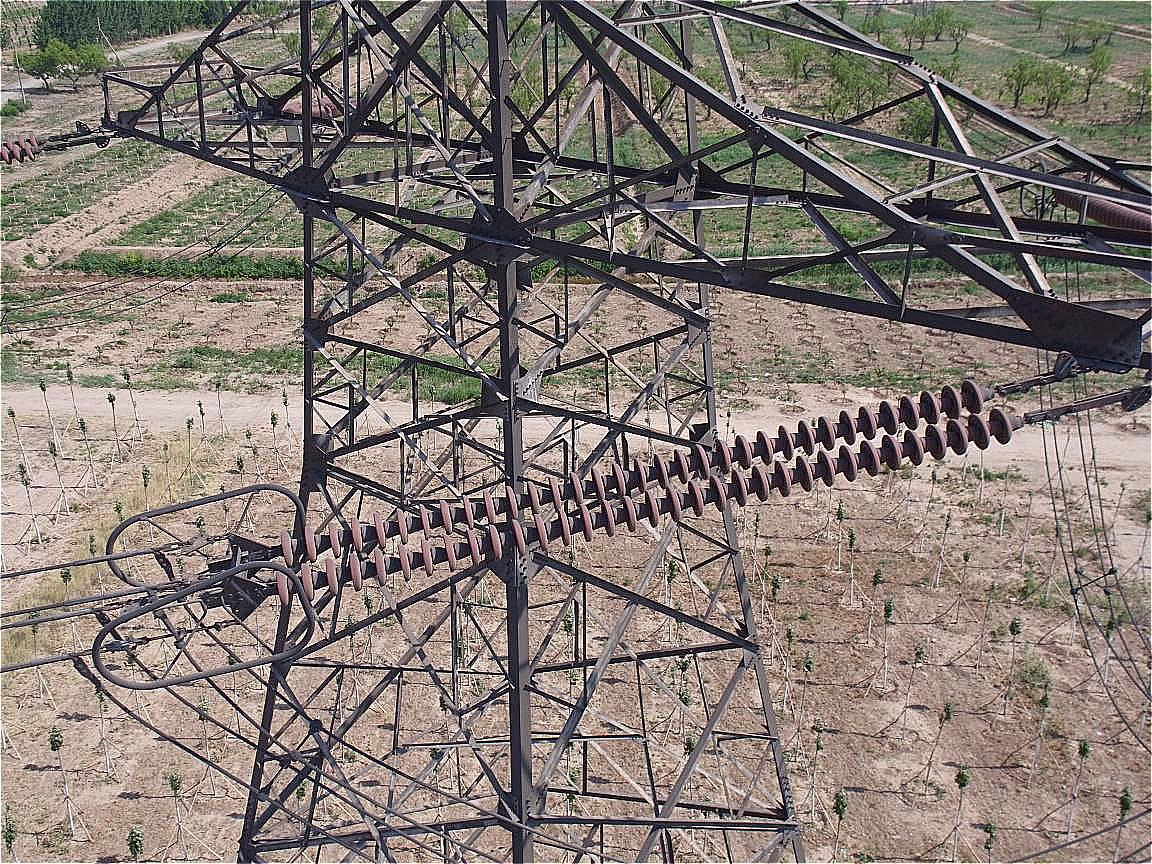insultor1: (241, 366, 1027, 621)
